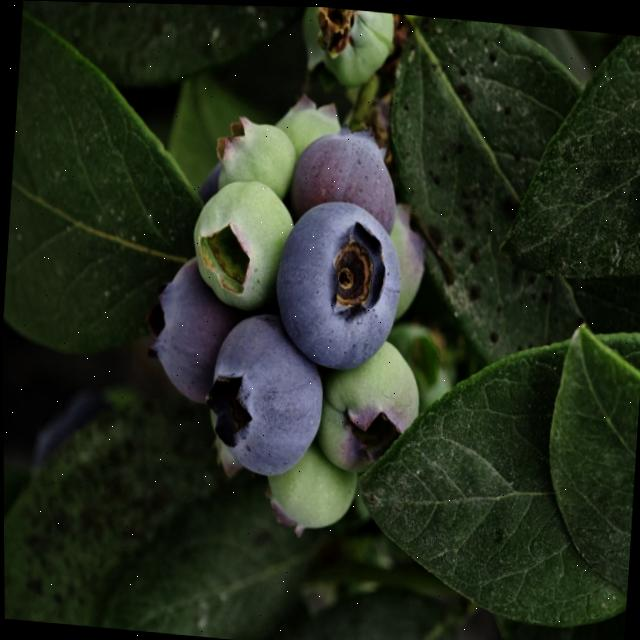RipeBlueBerry: (267, 193, 399, 367), (199, 309, 329, 478)
UnripeBlueBerry: (187, 174, 291, 310)
